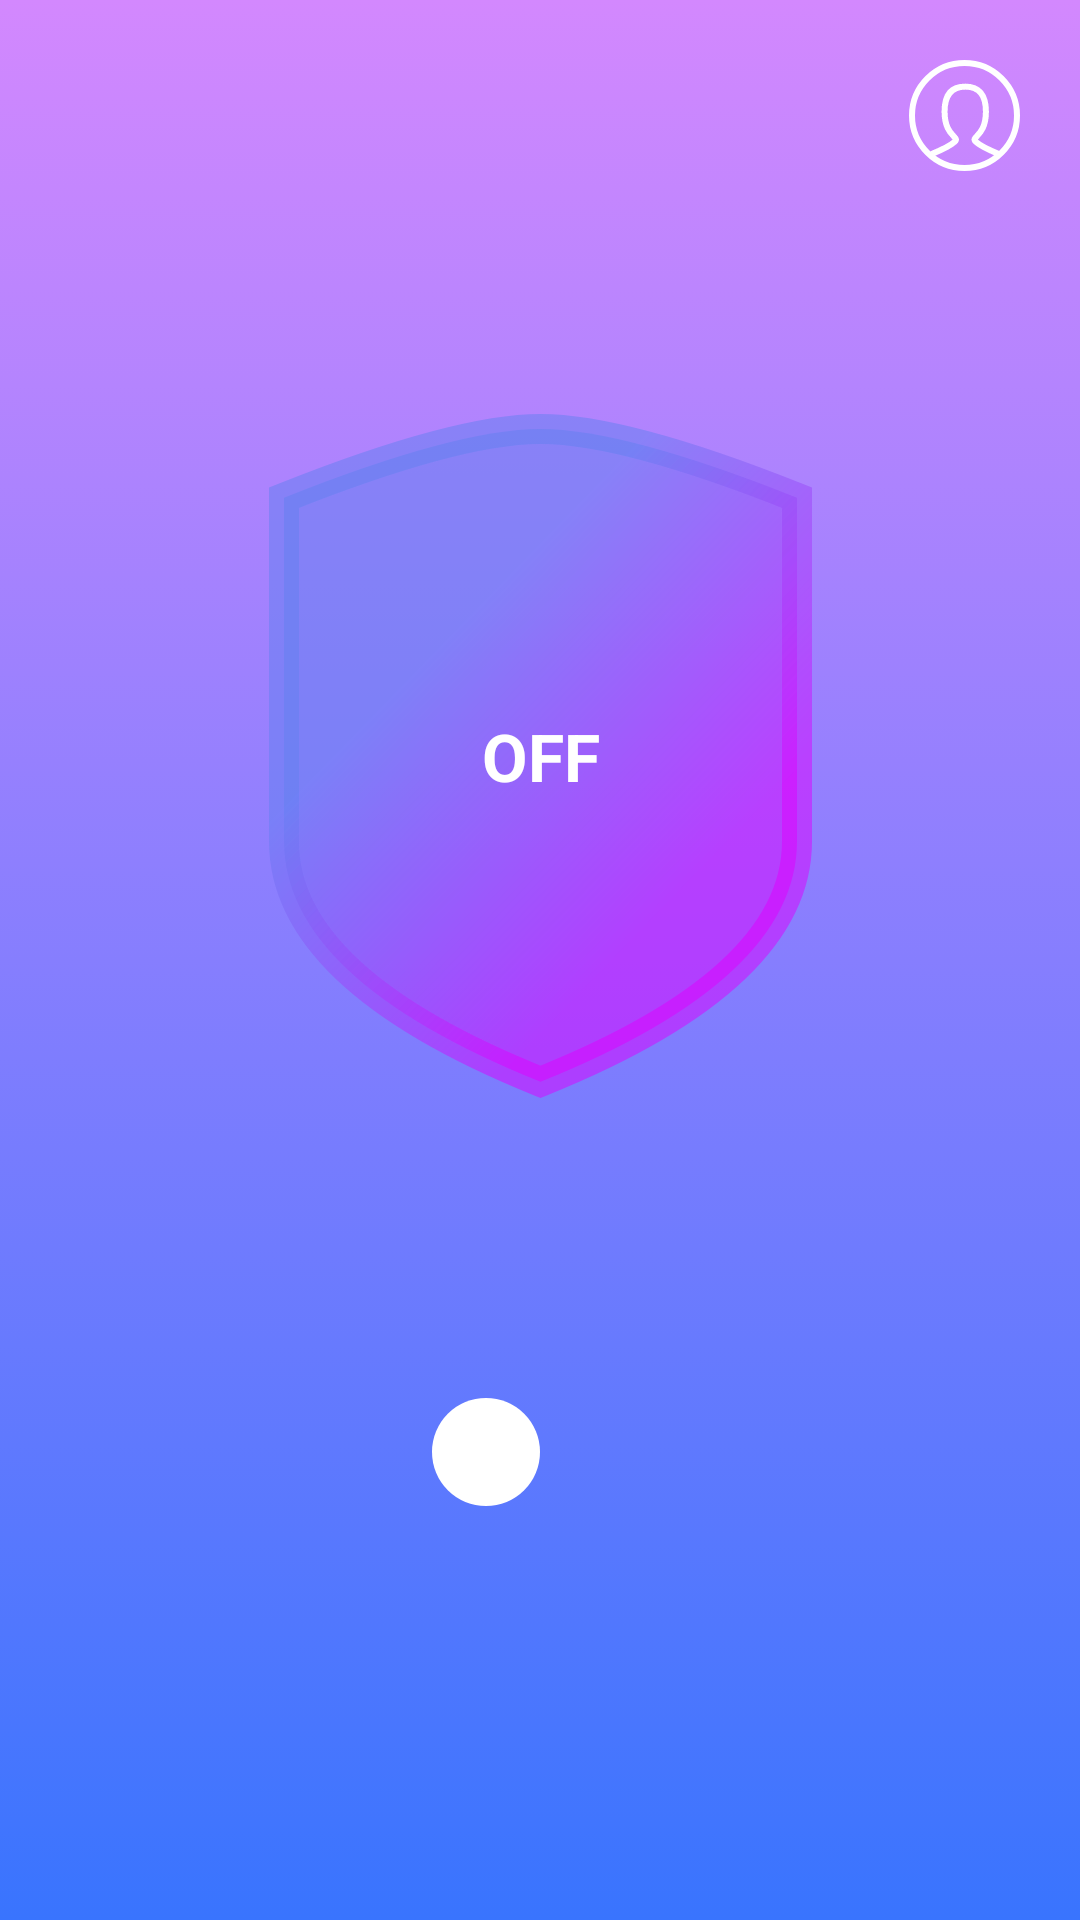

Icon bounding boxes for this 1080px x 1920px phone screenshot, format {"left": x1, "top": y1, "right": x2, "bottom": y2}:
user: {"left": 909, "top": 60, "right": 1020, "bottom": 171}
